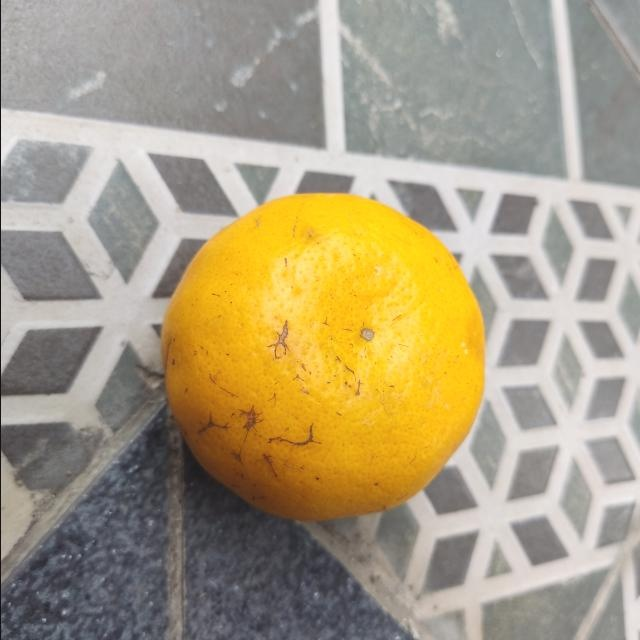agrume: (154, 190, 486, 522)
